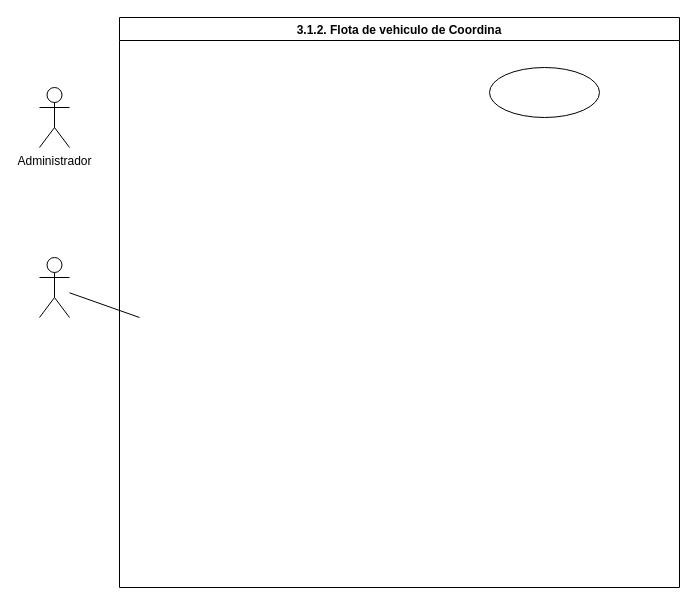
The diagram is 697 pixels wide and 605 high, and some of its shapes have lost their labels. The box of each missing label's shape, as (x1, y1, x2, y2) in pixels:
3.1.2.2 mobilidad: (488, 66, 600, 118)
Empleado: (38, 256, 70, 318)
